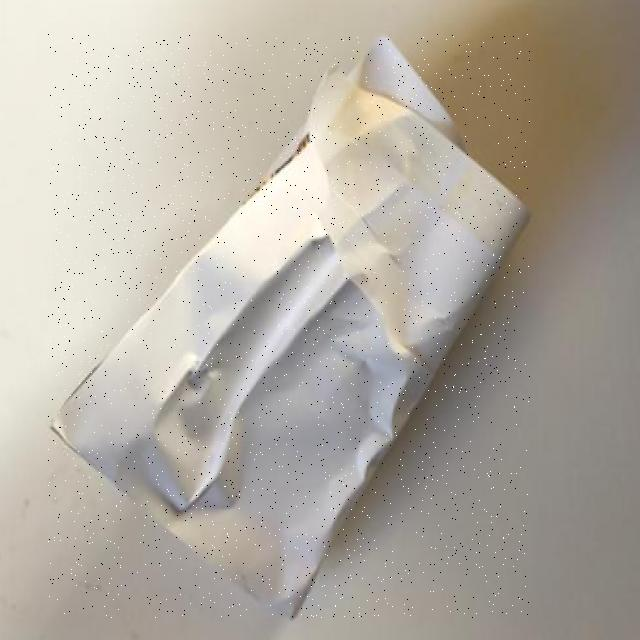paper: (49, 34, 530, 618)
